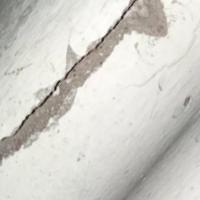crack: (0, 0, 143, 155)
